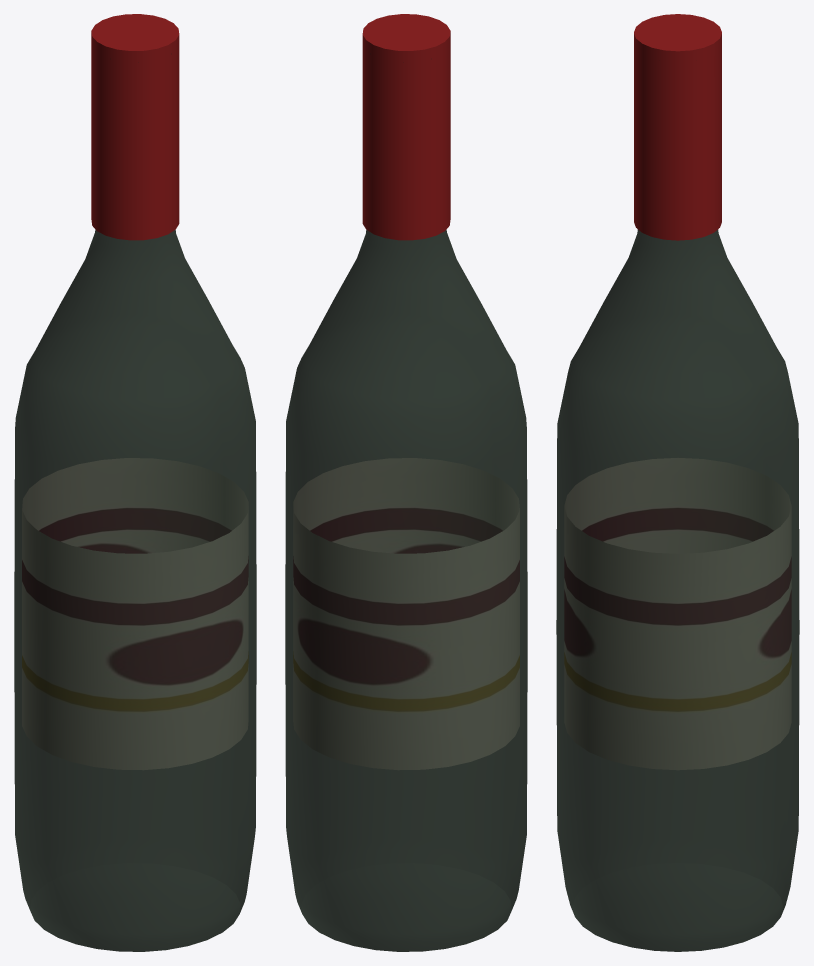
The model's file is bottle_wine_red_bordeaux.glb.
3 views of the same model, side by side, from view 1: azimuth 30°, elevation 25°; view 2: azimuth 150°, elevation 25°; view 3: azimuth 270°, elevation 25° (orthographic).
Visible parts, largest first — view 1: bottle_wine_red_bordeaux; view 2: bottle_wine_red_bordeaux; view 3: bottle_wine_red_bordeaux.
Boxes of the visible parts, x1,y1,x2,y2 form: bottle_wine_red_bordeaux: (14,14,256,951); bottle_wine_red_bordeaux: (285,14,527,951); bottle_wine_red_bordeaux: (556,14,799,951).
Size of the model in its own units: 0.0815 by 0.3254 by 0.0815.
